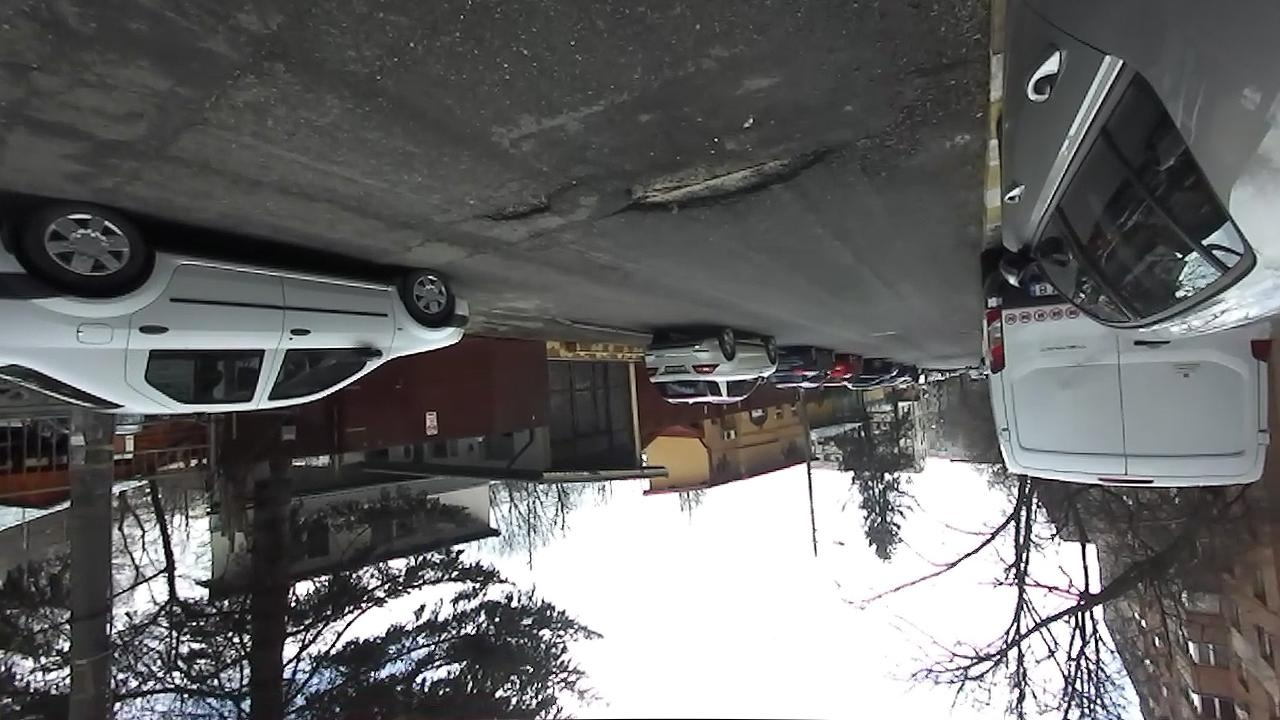pothole: (606, 140, 847, 219), (466, 176, 575, 226)
